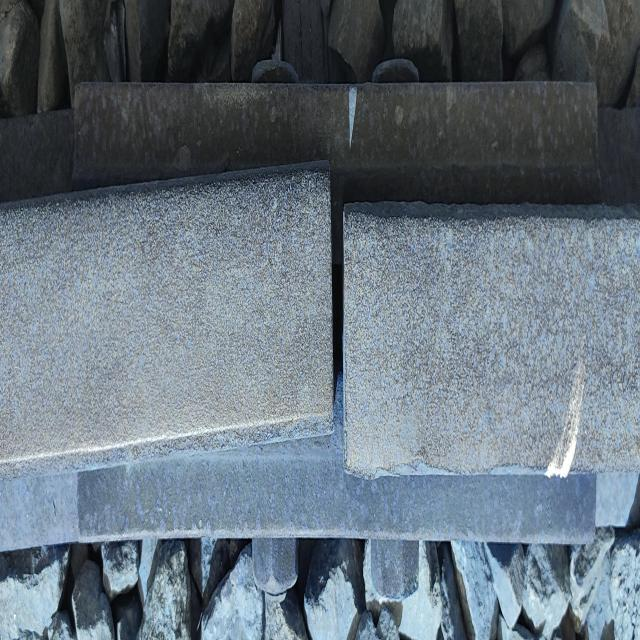Defective Joint: (69, 31, 611, 592)
